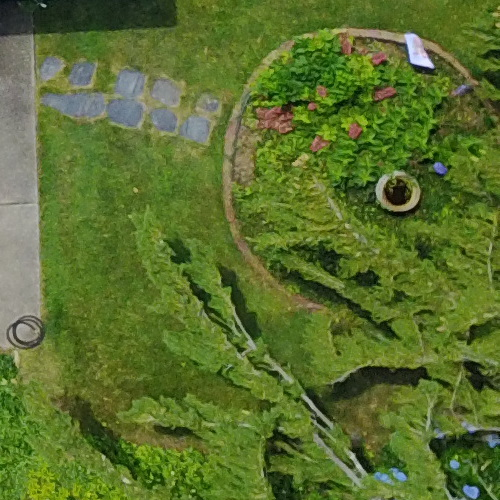container: (365, 163, 423, 234)
